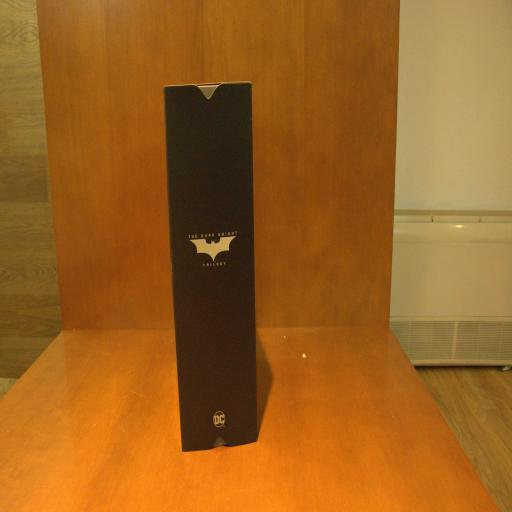catwoman: (164, 79, 258, 453)
